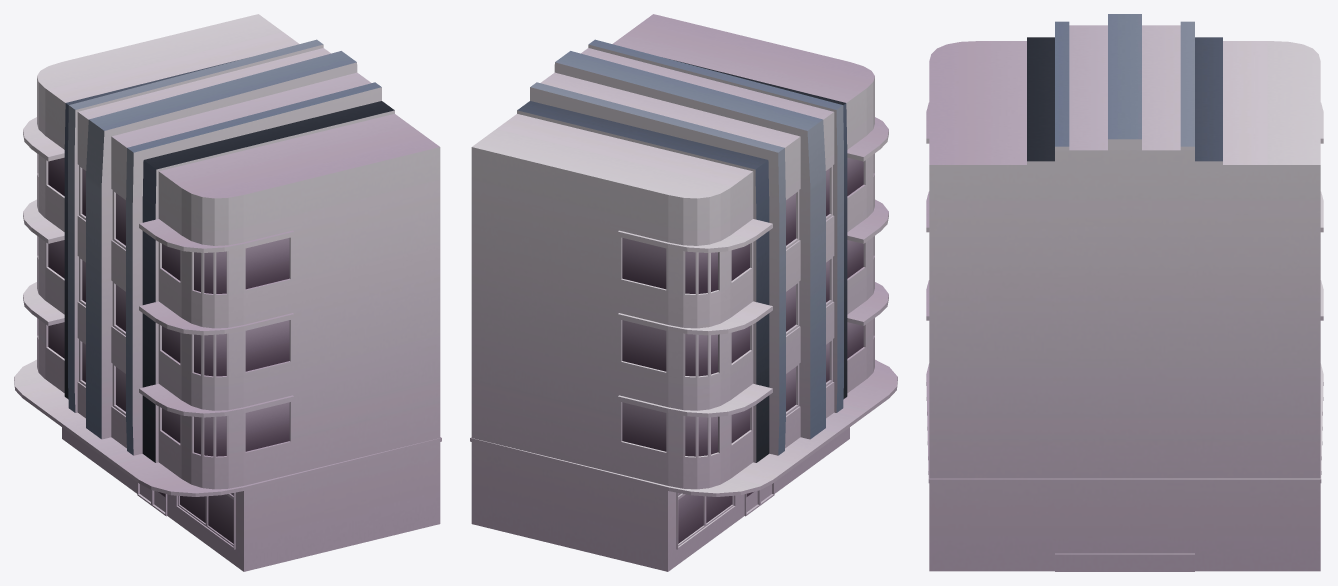
Rendered from miami_building_007.FBX.
3 views of the same model, side by side, from view 1: azimuth 30°, elevation 25°; view 2: azimuth 150°, elevation 25°; view 3: azimuth 270°, elevation 25° (orthographic). The views are drawn at different scales.
Visible parts, largest first — view 1: Object; view 2: Object; view 3: Object.
Boxes of the visible parts, x1,y1,x2,y2 form: Object: (14, 14, 441, 571); Object: (470, 14, 897, 571); Object: (926, 14, 1323, 571).
Bounding box in the file's own units: 412 × 584 × 487.
